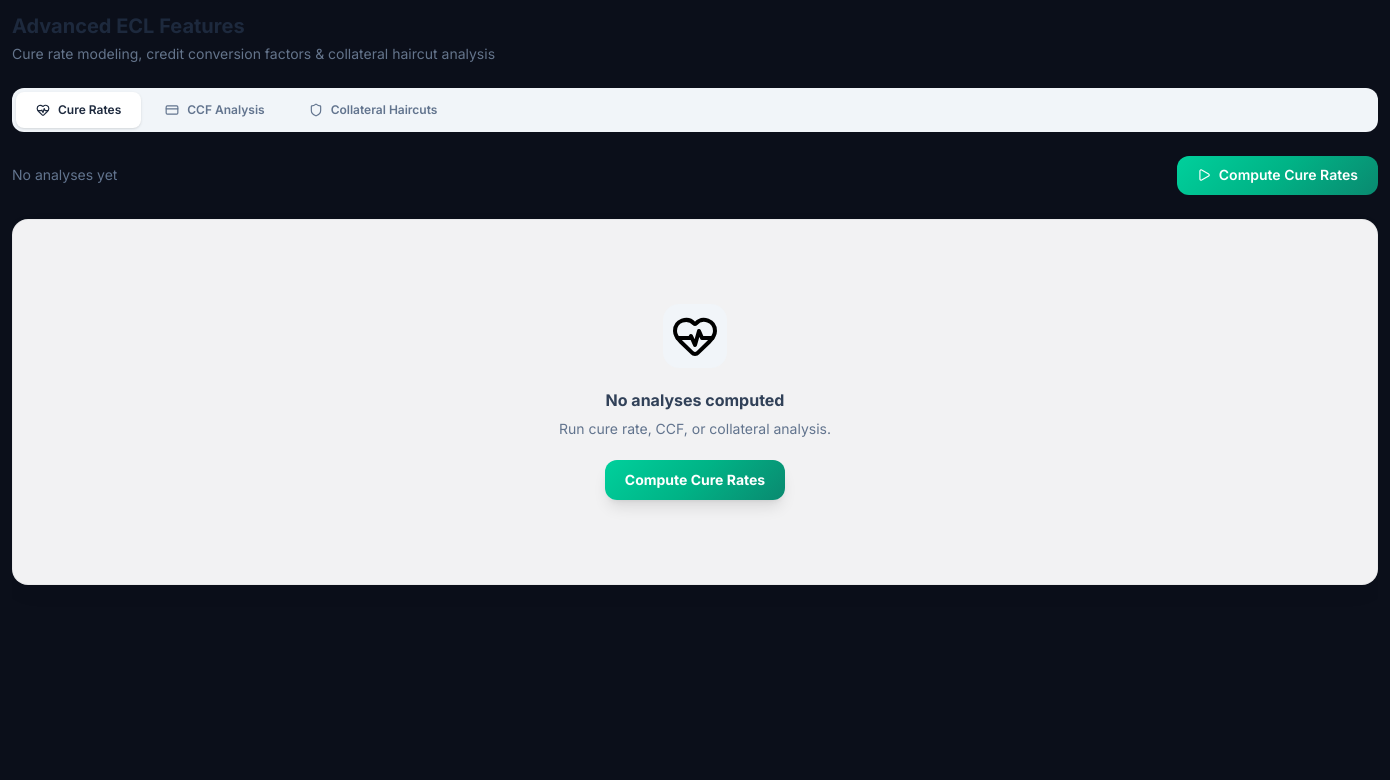
Scenario: AdvancedFeatures › handles compute error gracefully
Click the button "Compute Cure Rates" in the row of "No analyses yet" at (1277, 175), box [1177,156,1378,195]
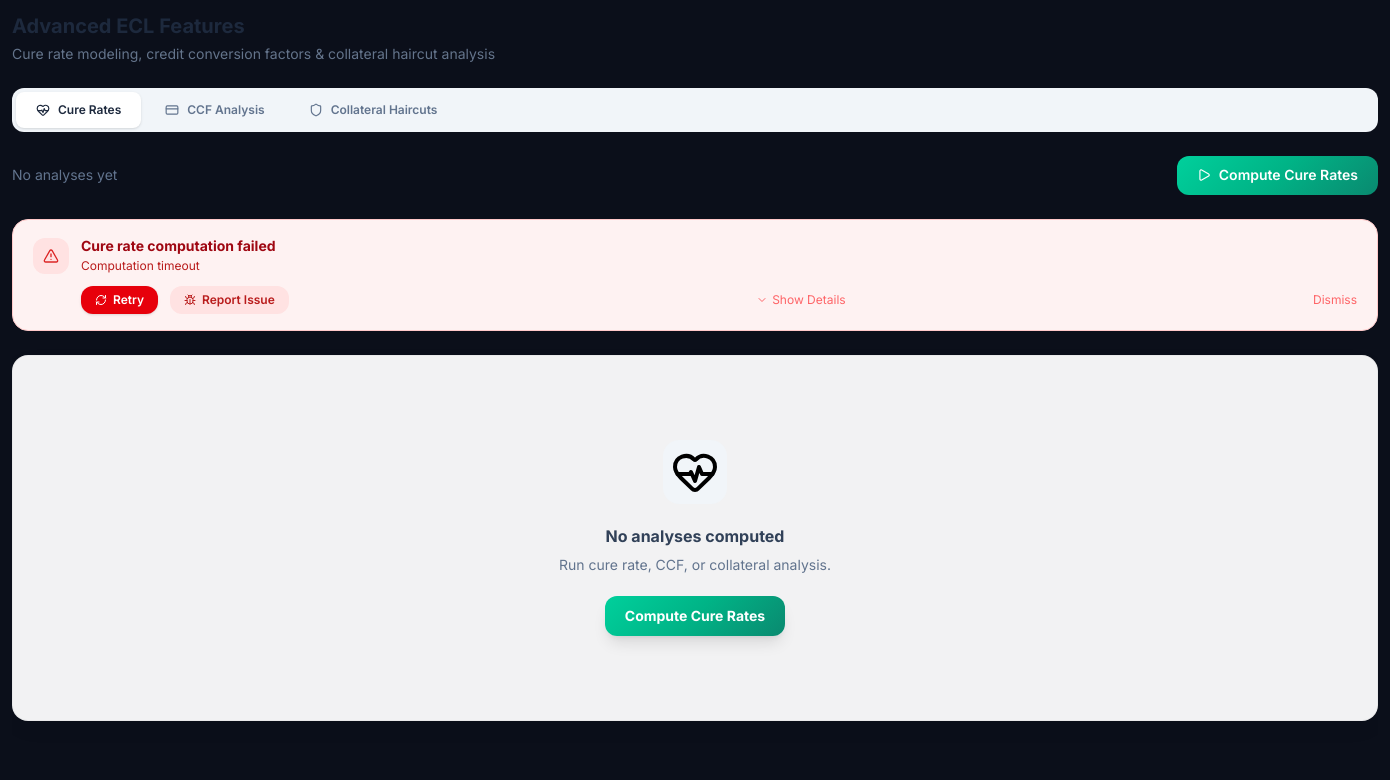
Expected: the text "Computation timeout" is shown, [81,258,200,273]
